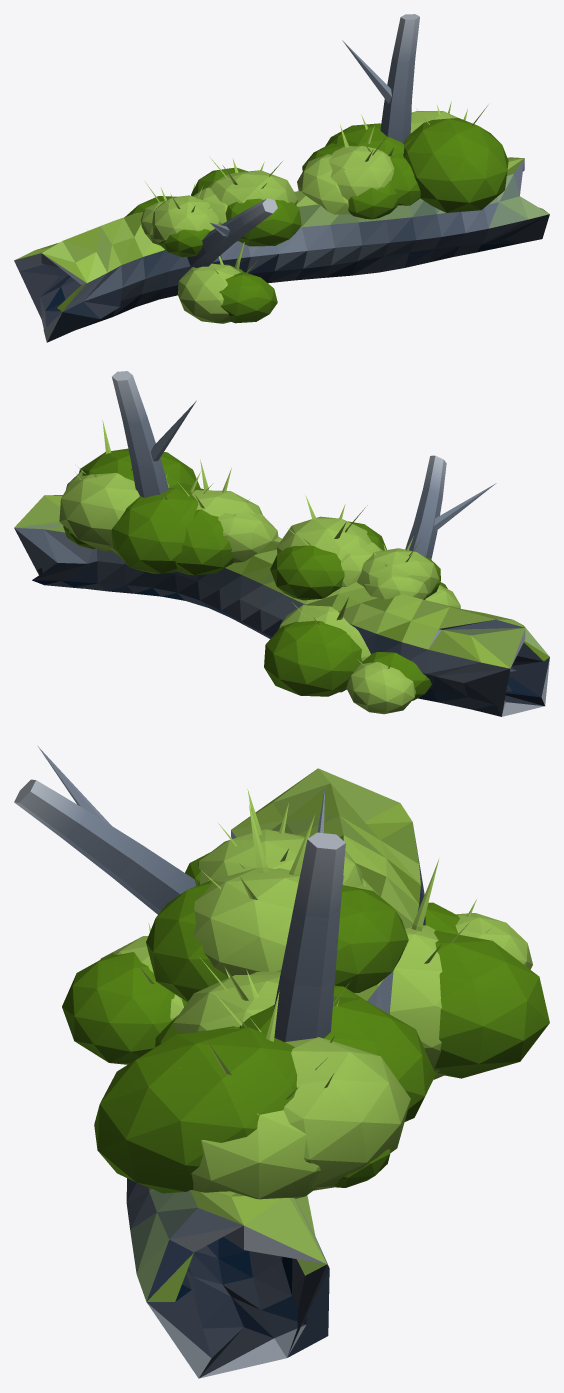
The model's file is pohon_tumbang_hollow_driftwood_654299 (2).glb.
3 renders of one model, top to bottom at view 1: azimuth 30°, elevation 25°; view 2: azimuth 150°, elevation 25°; view 3: azimuth 270°, elevation 25°, orthographic. The views are drawn at different scales.
Visible parts, largest first — view 1: Batang_Pohon_Berlubang; view 2: Batang_Pohon_Berlubang; view 3: Batang_Pohon_Berlubang.
Boxes of the visible parts, bbox=[...] form: Batang_Pohon_Berlubang: bbox=[14, 14, 549, 342]; Batang_Pohon_Berlubang: bbox=[14, 371, 549, 716]; Batang_Pohon_Berlubang: bbox=[14, 746, 549, 1378].
Bounding box in the file's own units: 5.54 × 2.52 × 2.72.
